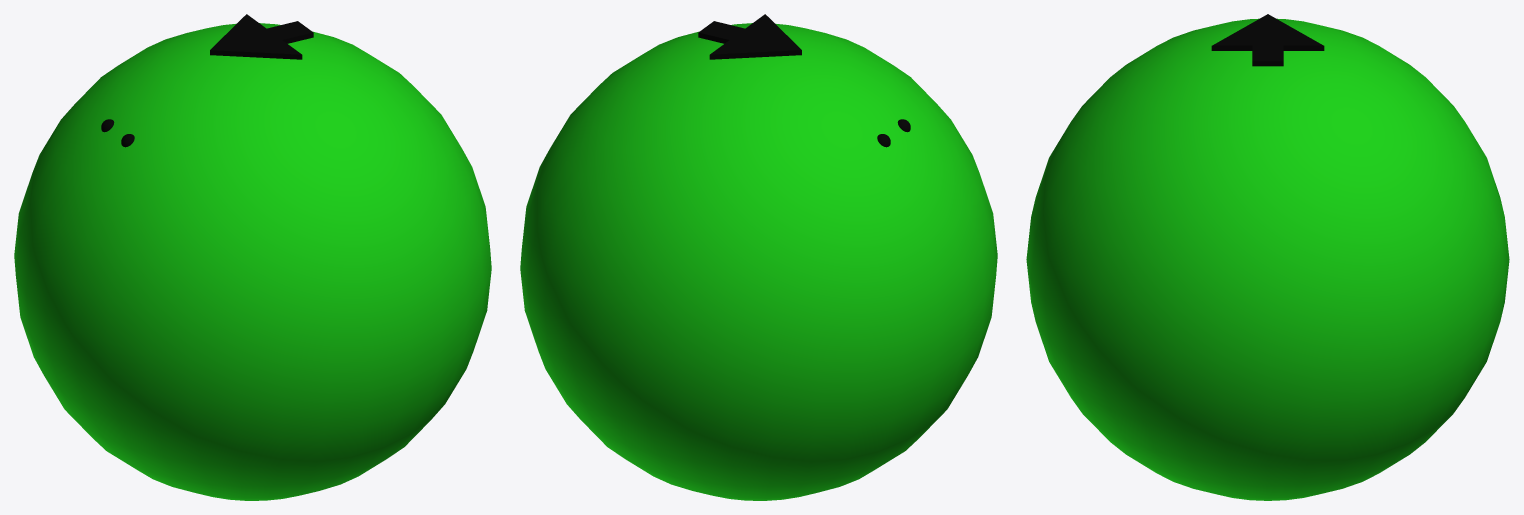
The picture shows the model from 3 angles, left to right: view 1: azimuth 30°, elevation 25°; view 2: azimuth 150°, elevation 25°; view 3: azimuth 270°, elevation 25°; orthographic projection.
Visible parts, largest first — view 1: Cube.021_Cube.009_Material.001, Cube.021_Cube.009_SVGMat; view 2: Cube.021_Cube.009_Material.001, Cube.021_Cube.009_SVGMat; view 3: Cube.021_Cube.009_Material.001, Cube.021_Cube.009_SVGMat.
Boxes of the visible parts, x1,y1,x2,y2 form: Cube.021_Cube.009_Material.001: [14, 23, 491, 500]; Cube.021_Cube.009_SVGMat: [101, 14, 313, 147]; Cube.021_Cube.009_Material.001: [520, 23, 997, 500]; Cube.021_Cube.009_SVGMat: [698, 14, 910, 147]; Cube.021_Cube.009_Material.001: [1026, 18, 1509, 500]; Cube.021_Cube.009_SVGMat: [1211, 14, 1324, 66].
Bounding box in the file's own units: 0.4999 × 0.5016 × 0.4999.
